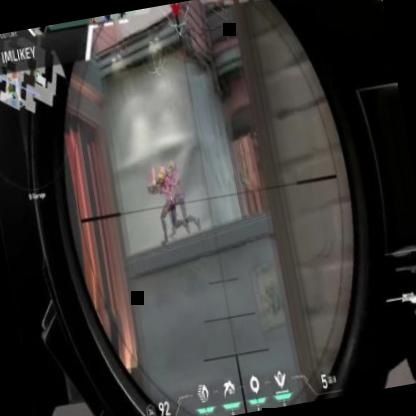enemy: (146, 154, 189, 239)
enemy_head: (160, 166, 166, 178)
